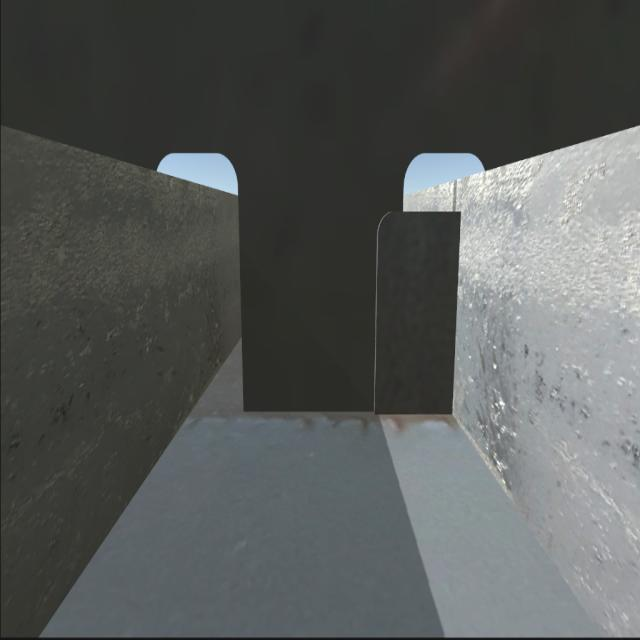fillet_yong_jeop_jang: (243, 406, 455, 424)
longi_yong_jeop_jang: (443, 216, 466, 412)
plate_CP05: (378, 206, 464, 408)
